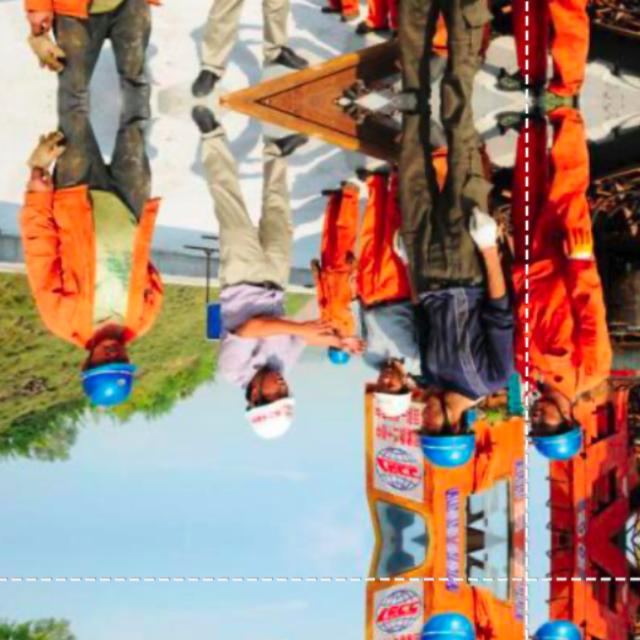safetyhelmet: (82, 362, 136, 407), (246, 396, 296, 438), (420, 431, 475, 466), (528, 423, 582, 458), (424, 611, 475, 639), (534, 619, 582, 639), (374, 390, 411, 415), (328, 346, 350, 364)
